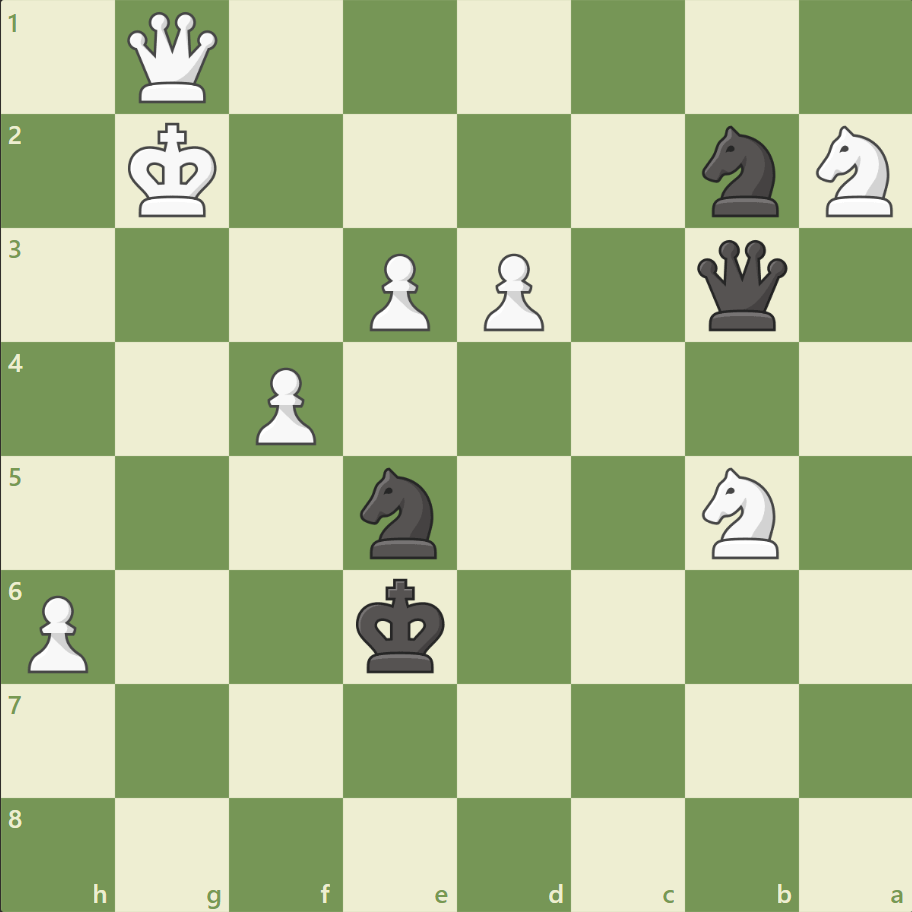K: (124, 117, 224, 225)
N: (692, 461, 789, 564), (806, 121, 903, 223)
P: (20, 586, 95, 677), (247, 359, 322, 450), (474, 246, 549, 337), (361, 246, 435, 337)
Q: (124, 9, 223, 108)
k: (351, 571, 451, 679)
n: (351, 461, 449, 564), (692, 121, 789, 223)
q: (691, 236, 790, 335)
